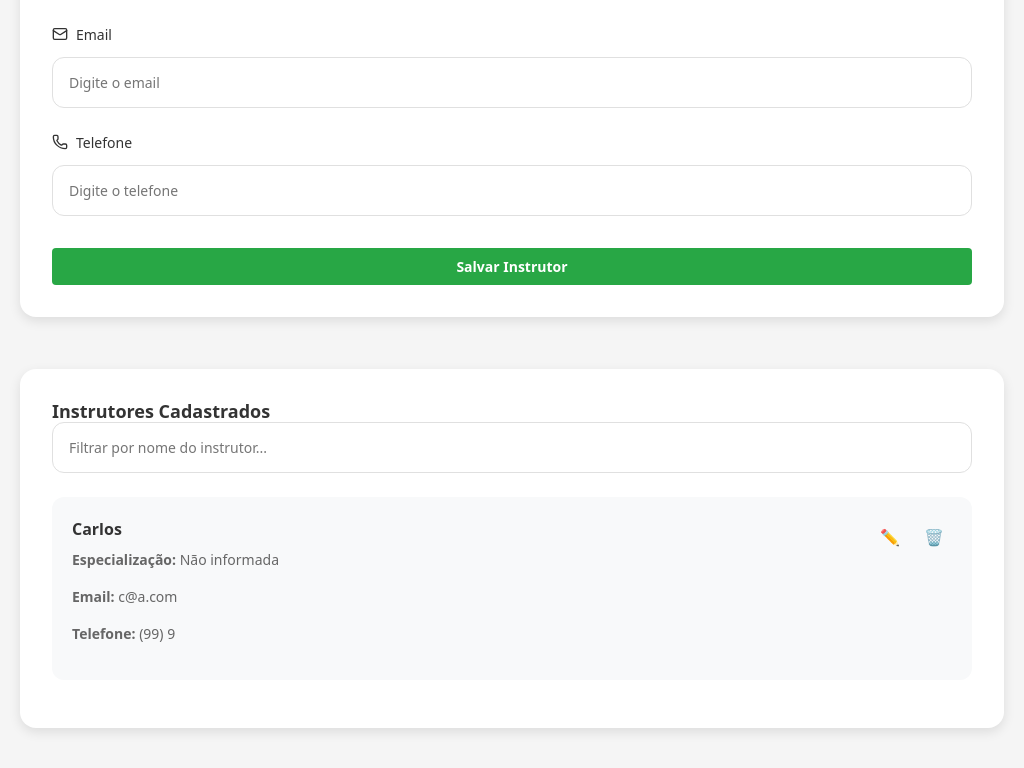
Test case: CadastroDeInstrutor › deleta instrutor com confirmação
(page scrolled)
Expected: the text "Carlos" is shown, [72, 518, 122, 540]
Step 1. Click the button titled "Excluir" → (934,537), box [916, 517, 952, 557]
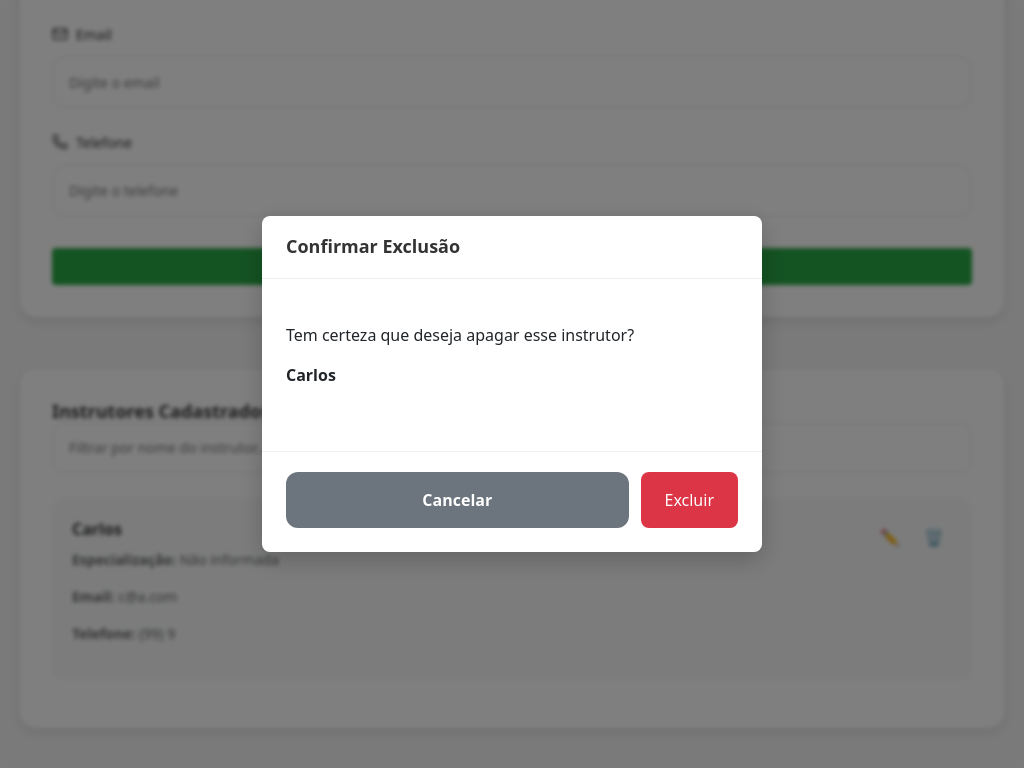
Expected: the heading "Confirmar Exclusão" is shown, [286, 236, 460, 258]
